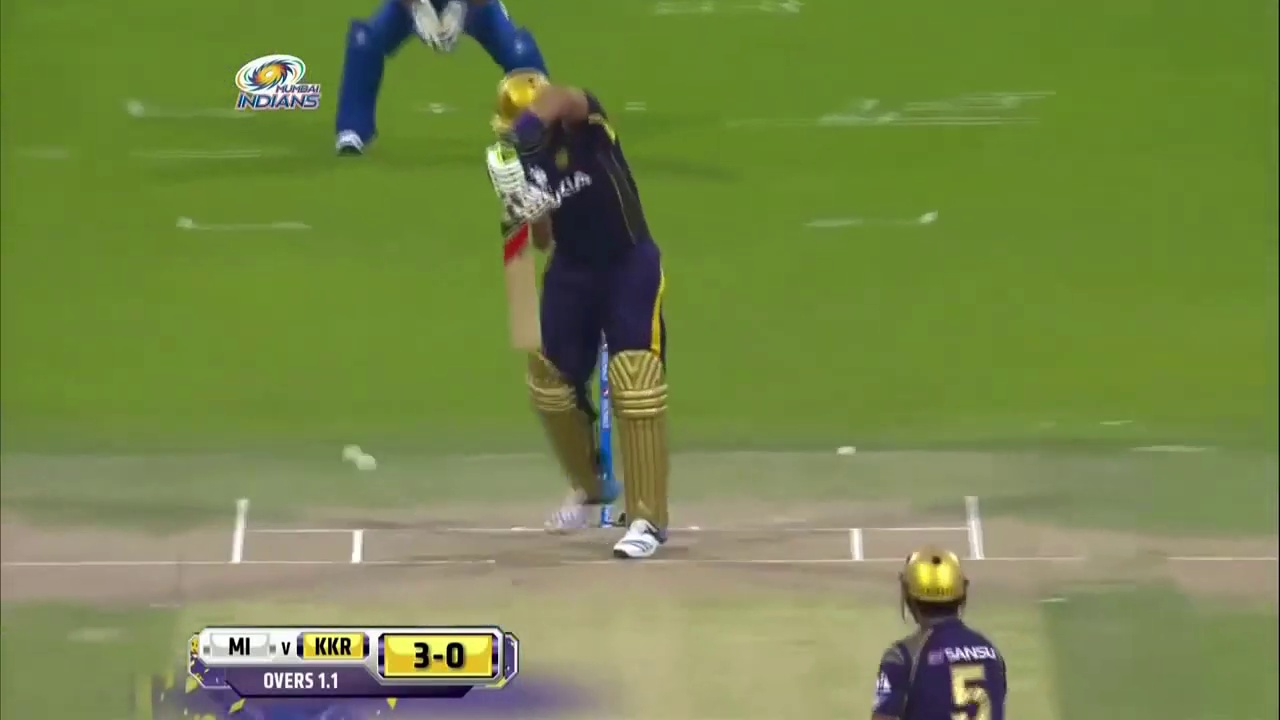bat: (502, 226, 543, 350)
